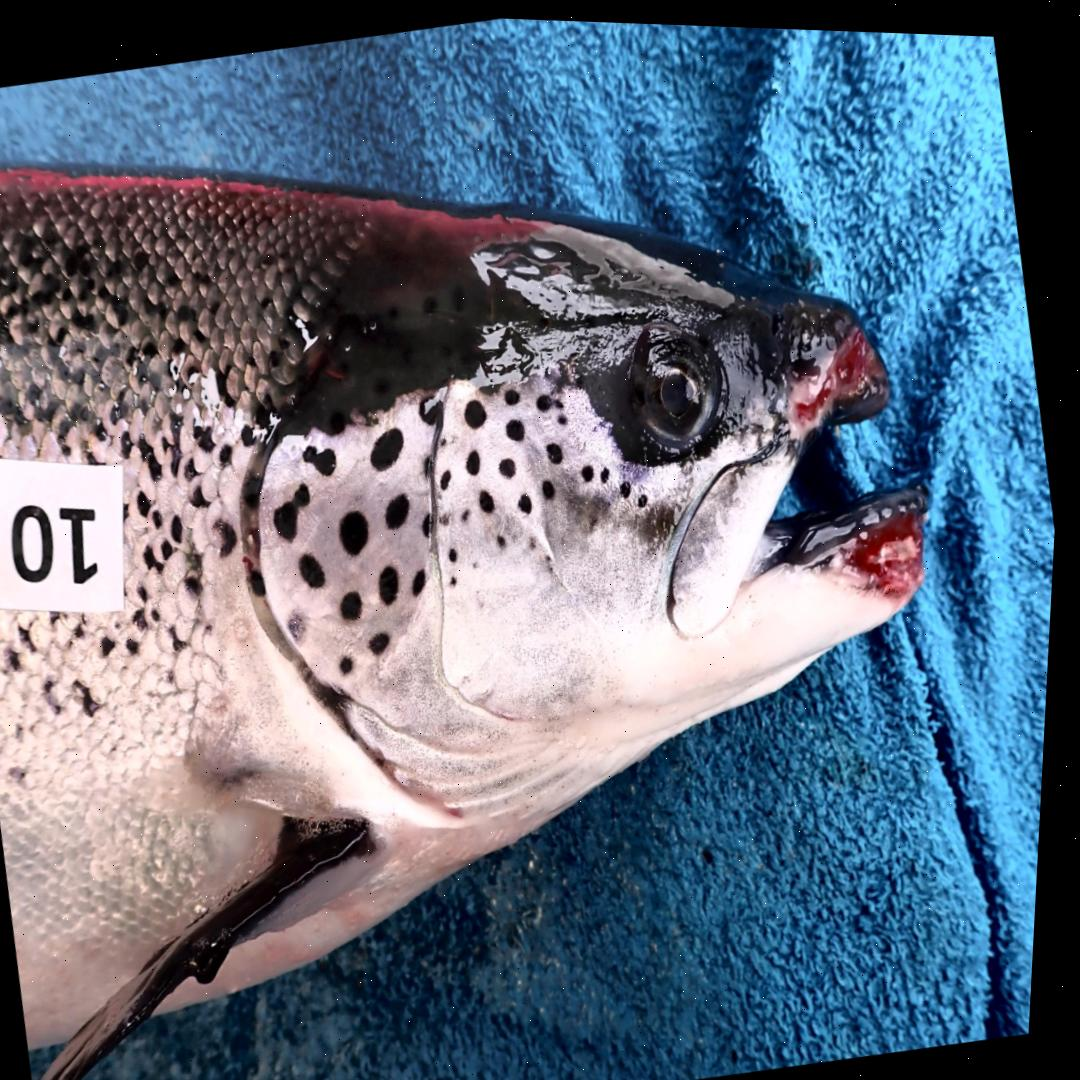spot: (277, 479, 314, 536), (373, 423, 408, 466), (343, 506, 373, 552), (306, 441, 340, 473), (303, 550, 330, 584), (421, 385, 446, 421), (290, 607, 315, 642), (389, 490, 413, 526), (383, 561, 404, 599), (345, 586, 368, 616), (247, 471, 266, 505), (467, 394, 489, 423), (253, 568, 271, 594), (375, 628, 395, 650), (509, 414, 528, 437), (416, 565, 431, 592), (550, 437, 567, 460), (469, 446, 484, 472), (482, 487, 499, 507), (503, 452, 519, 473), (522, 487, 537, 509), (622, 473, 637, 494), (484, 377, 506, 390), (442, 504, 456, 524), (507, 383, 523, 400), (425, 510, 436, 533), (345, 653, 359, 671), (545, 475, 559, 493), (540, 389, 554, 407), (424, 450, 434, 473), (443, 466, 455, 485), (556, 389, 569, 406), (640, 487, 653, 503), (532, 529, 543, 547), (465, 504, 476, 522), (584, 460, 597, 475), (559, 405, 569, 419), (453, 543, 462, 558), (604, 461, 613, 476), (452, 572, 463, 584), (501, 530, 510, 542), (444, 432, 450, 442), (553, 559, 559, 566), (478, 556, 483, 564), (550, 549, 556, 555)
